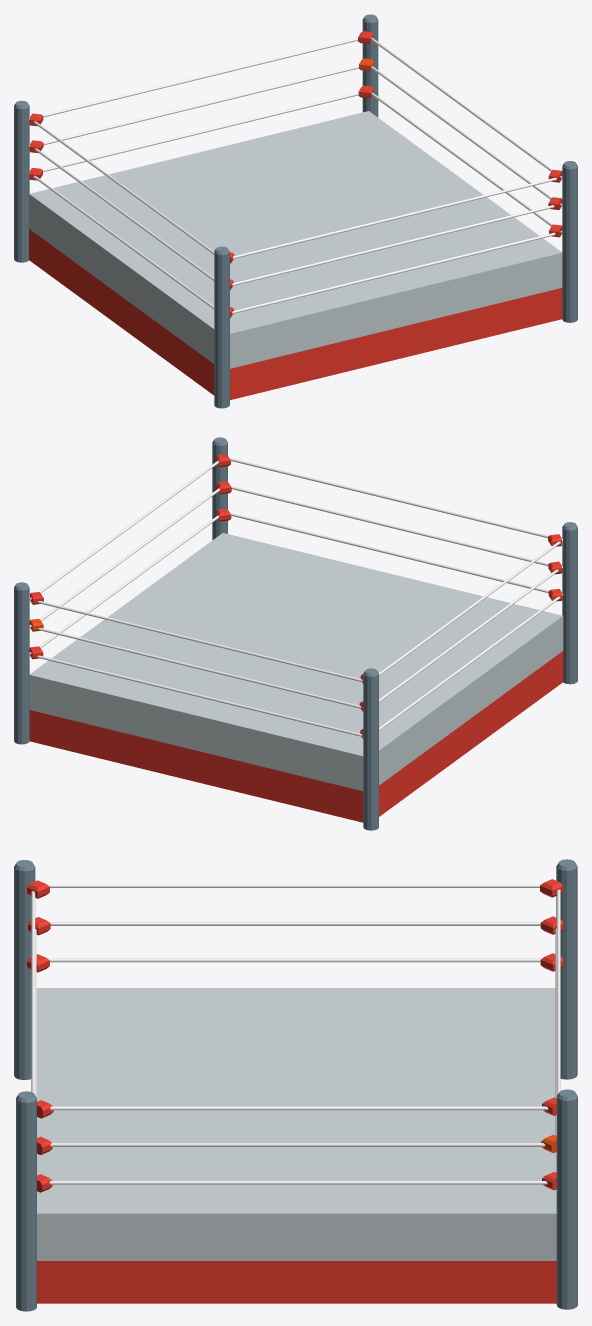
The model's file is BoxingRing.fbx.
3 renders of one model, top to bottom at view 1: azimuth 30°, elevation 25°; view 2: azimuth 150°, elevation 25°; view 3: azimuth 270°, elevation 25°, orthographic. The views are drawn at different scales.
Visible parts, largest first — view 1: group328789628, group163412692, group788371181, group368896621, group1642971909, group21080103, group317741549, group1181248648, group1003898359, group496071842, group916318022, group1911749381 (+5 smaller); view 2: group328789628, group1642971909, group368896621, group788371181, group163412692, group916318022, group1003898359, group496071842, group21080103, group1181248648, group317741549, group927043435 (+5 smaller); view 3: group328789628, group1642971909, group163412692, group788371181, group368896621, group1911749381, group1593321500, group456450225, group1821265527, group927043435, group1948876350, group1003898359 (+1 smaller).
Boxes of the visible parts, x1,y1,x2,y2 form: group328789628: [29, 111, 562, 399]; group163412692: [548, 161, 577, 322]; group788371181: [14, 100, 43, 262]; group368896621: [214, 246, 234, 408]; group1642971909: [358, 14, 378, 117]; group21080103: [232, 177, 556, 258]; group317741549: [232, 232, 555, 313]; group1181248648: [232, 205, 554, 285]; group1003898359: [42, 38, 357, 117]; group496071842: [43, 65, 358, 144]; group916318022: [42, 92, 358, 172]; group1911749381: [371, 37, 552, 171]; group328789628: [29, 533, 563, 822]; group1642971909: [14, 582, 43, 744]; group368896621: [548, 522, 577, 684]; group788371181: [359, 668, 378, 830]; group163412692: [212, 437, 231, 540]; group916318022: [37, 655, 362, 736]; group1003898359: [38, 601, 362, 682]; group496071842: [38, 628, 361, 708]; group21080103: [229, 458, 548, 538]; group1181248648: [231, 486, 548, 566]; group317741549: [230, 513, 548, 593]; group927043435: [379, 541, 562, 675]; group328789628: [36, 988, 556, 1303]; group1642971909: [541, 1089, 577, 1309]; group163412692: [16, 1091, 53, 1311]; group788371181: [540, 859, 577, 1079]; group368896621: [14, 860, 50, 1079]; group1911749381: [50, 1106, 548, 1110]; group1593321500: [48, 958, 541, 962]; group456450225: [49, 1181, 547, 1184]; group1821265527: [50, 1143, 545, 1146]; group927043435: [47, 884, 540, 887]; group1948876350: [49, 922, 541, 925]; group1003898359: [556, 889, 560, 1095].
Size of the model in its own units: 750 by 310 by 742.
